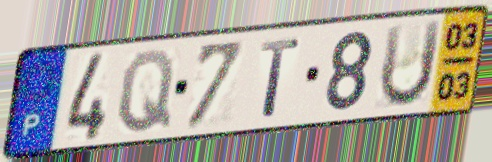4: (64, 49, 109, 144)
7: (187, 36, 249, 131)
8: (324, 29, 374, 115)
Q: (115, 47, 177, 137)
T: (258, 35, 303, 120)
U: (376, 16, 445, 111)
